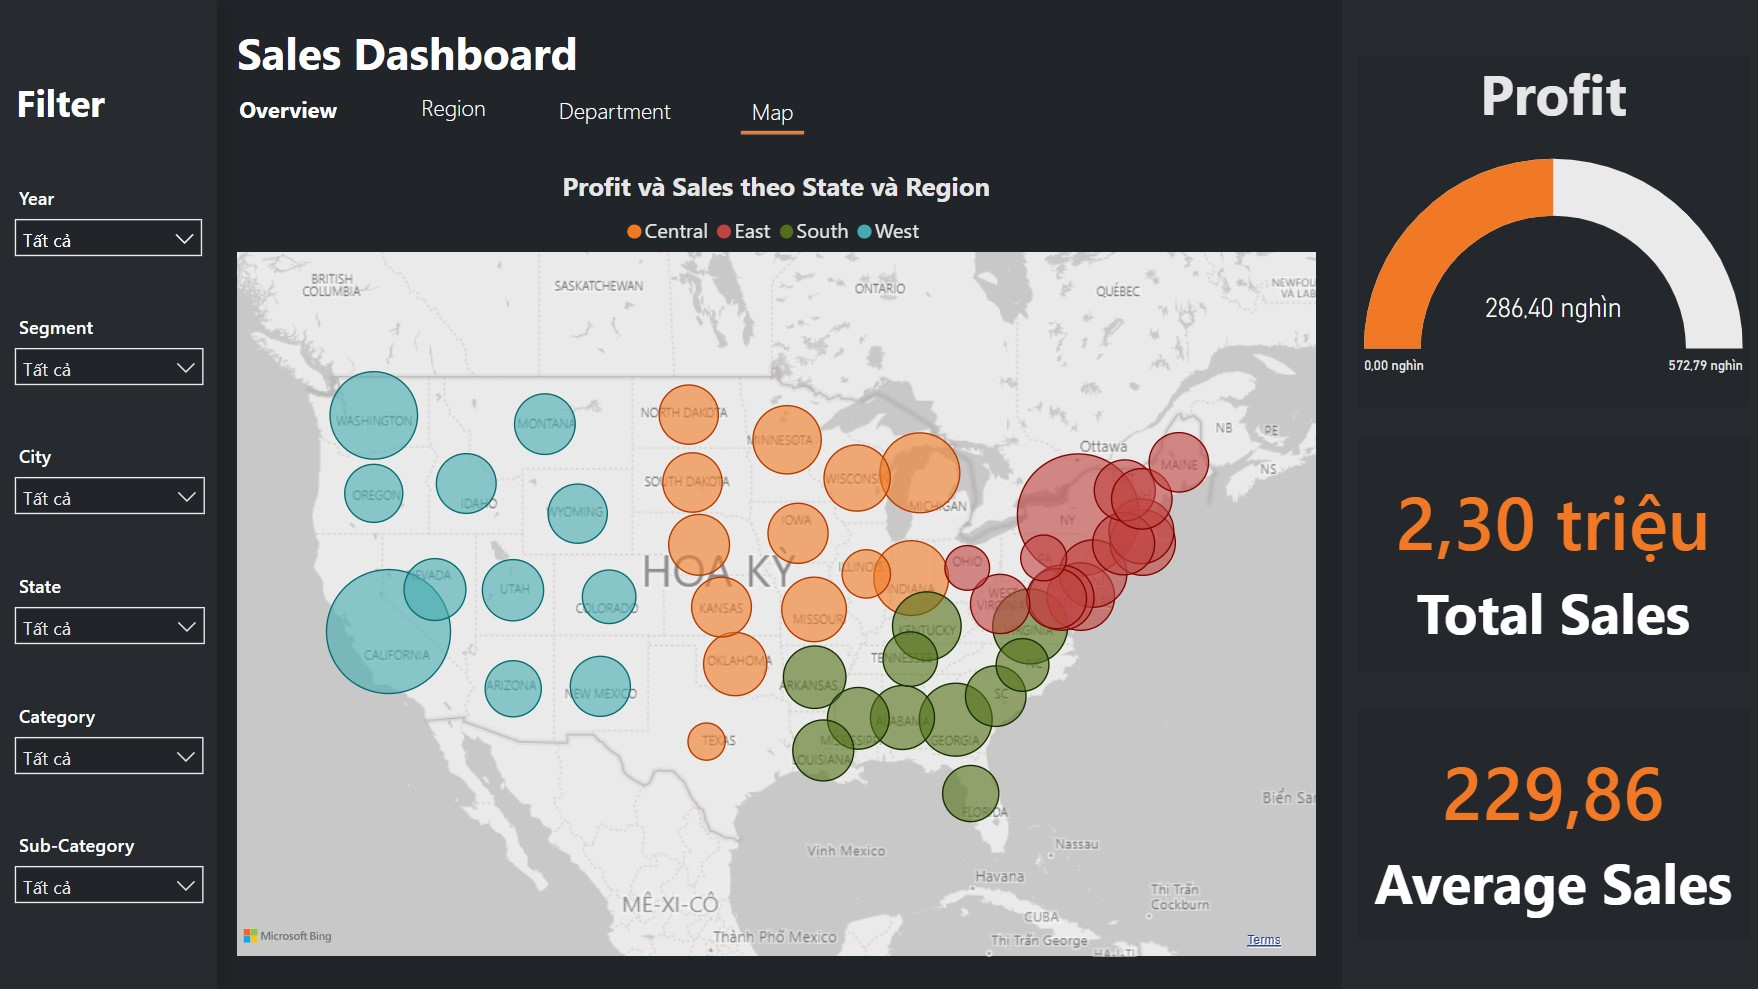

The page's visual inventory and layout, read from the dashboard file:
{"tool":"powerbi","page":{"name":"Map","canvas":[1280,720],"ordinal":3},"visuals":[{"type":"textbox","box":[167.5,13,270.8,52.6],"z":0},{"type":"shape","box":[0,0,158.1,720.4],"z":1000},{"type":"textbox","box":[156,65.7,107.7,30.9],"z":2000},{"type":"textbox","box":[285.9,65,87.9,33.3],"z":3000},{"type":"textbox","box":[393.1,66.8,106.9,32.5],"z":4000},{"type":"actionButton","box":[156,67.3,107.7,29.3],"z":5000},{"type":"actionButton","box":[295.9,75,87.9,34.9],"z":6000},{"type":"actionButton","box":[392.9,67.3,106.9,34.1],"z":7000},{"type":"textbox","box":[0,53.1,156,57],"z":8000},{"type":"slicer","title":"Slicer","fields":{"Values":["Orders.Order_year"]},"box":[1.6,132.3,156,56.2],"z":9000},{"type":"slicer","fields":{"Values":["Orders.Segment"]},"box":[1.6,225.7,156.8,56.2],"z":10000},{"type":"slicer","fields":{"Values":["Orders.City"]},"box":[1.6,319.2,157.6,57],"z":11000},{"type":"slicer","fields":{"Values":["Orders.State"]},"box":[1.6,413.5,157.6,57],"z":12000},{"type":"slicer","fields":{"Values":["Orders.Category"]},"box":[1.6,507.7,156.8,57],"z":13000},{"type":"slicer","fields":{"Values":["Orders.Sub-Category"]},"box":[1.6,602,156.8,57.8],"z":14000},{"type":"map","fields":{"Size":["Sum(Orders.Profit)"],"Category":["Orders.State"],"Series":["Orders.Region"]},"box":[167.9,123.9,792.8,576.7],"z":15000},{"type":"textbox","box":[508,67.2,106.9,32.5],"z":16000},{"type":"actionButton","box":[507.7,66.3,107.3,35],"z":17000},{"type":"shape","box":[537.9,82,47,32.6],"z":18000},{"type":"shape","box":[974.8,0,305.2,743.8],"z":19000},{"type":"gauge","fields":{"Y":["Sum(Orders.Profit)"]},"box":[985.5,42.7,284.9,254.6],"z":20000},{"type":"card","fields":{"Values":["Sum(Orders.Sales)"]},"box":[985.5,319.3,284.9,170.7],"z":21000},{"type":"card","fields":{"Values":["Avg(Orders.Sales)"]},"box":[985.5,517.5,284.9,166.5],"z":22000}]}

Visuals, with their boxes in screenshot pixels (x1, y1, x2, y2), scaled from the page's 1280x720 canvas onto the 1758x989 screenshot:
textbox: left=230, top=18, right=602, bottom=90
shape: left=0, top=0, right=217, bottom=988
textbox: left=214, top=90, right=362, bottom=133
textbox: left=393, top=89, right=513, bottom=135
textbox: left=540, top=92, right=687, bottom=136
actionButton: left=214, top=92, right=362, bottom=133
actionButton: left=406, top=103, right=527, bottom=151
actionButton: left=540, top=92, right=686, bottom=139
textbox: left=0, top=73, right=214, bottom=151
"Slicer" slicer: left=2, top=182, right=216, bottom=259
slicer - Orders.Segment: left=2, top=310, right=218, bottom=387
slicer - Orders.City: left=2, top=438, right=219, bottom=517
slicer - Orders.State: left=2, top=568, right=219, bottom=646
slicer - Orders.Category: left=2, top=697, right=218, bottom=776
slicer - Orders.Sub-Category: left=2, top=827, right=218, bottom=906
map - Sum(Orders.Profit) x Orders.State: left=231, top=170, right=1319, bottom=962
textbox: left=698, top=92, right=845, bottom=137
actionButton: left=697, top=91, right=845, bottom=139
shape: left=739, top=113, right=803, bottom=157
shape: left=1339, top=0, right=1757, bottom=988
gauge - Sum(Orders.Profit): left=1354, top=59, right=1745, bottom=408
card - Sum(Orders.Sales): left=1354, top=439, right=1745, bottom=673
card - Avg(Orders.Sales): left=1354, top=711, right=1745, bottom=940
